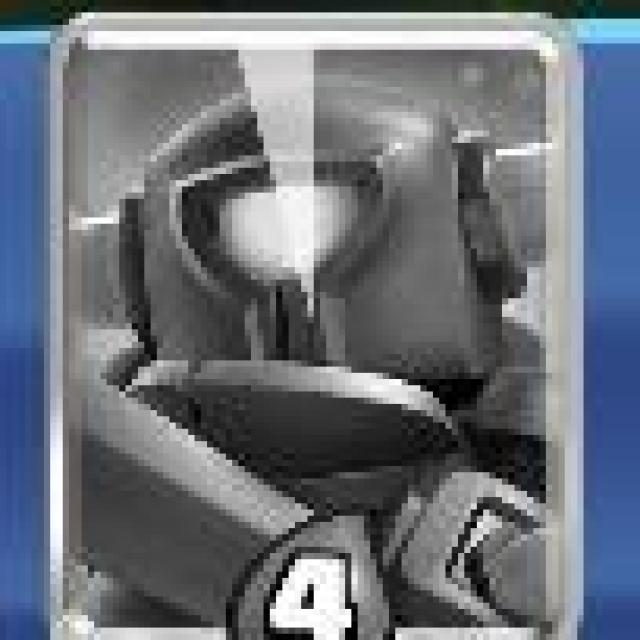Mini_Pekka: (53, 12, 586, 640)
